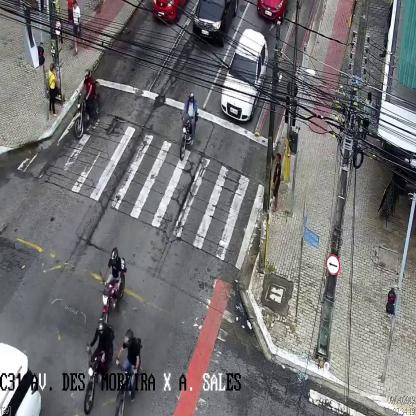car: (220, 29, 268, 122), (196, 0, 242, 45), (150, 0, 191, 26), (255, 0, 291, 20)
motorbike: (84, 318, 112, 416), (115, 328, 142, 416), (100, 248, 126, 330), (73, 69, 100, 139), (179, 92, 197, 159)
person: (71, 2, 82, 58), (48, 63, 58, 117), (271, 153, 280, 213), (364, 91, 374, 142)
